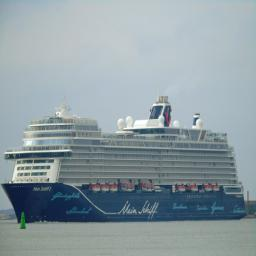cruises: (2, 94, 249, 229)
